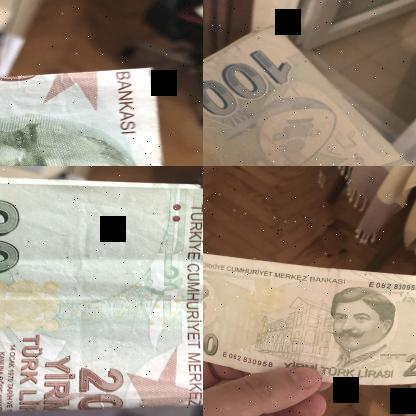5 TL: (0, 65, 174, 165)
